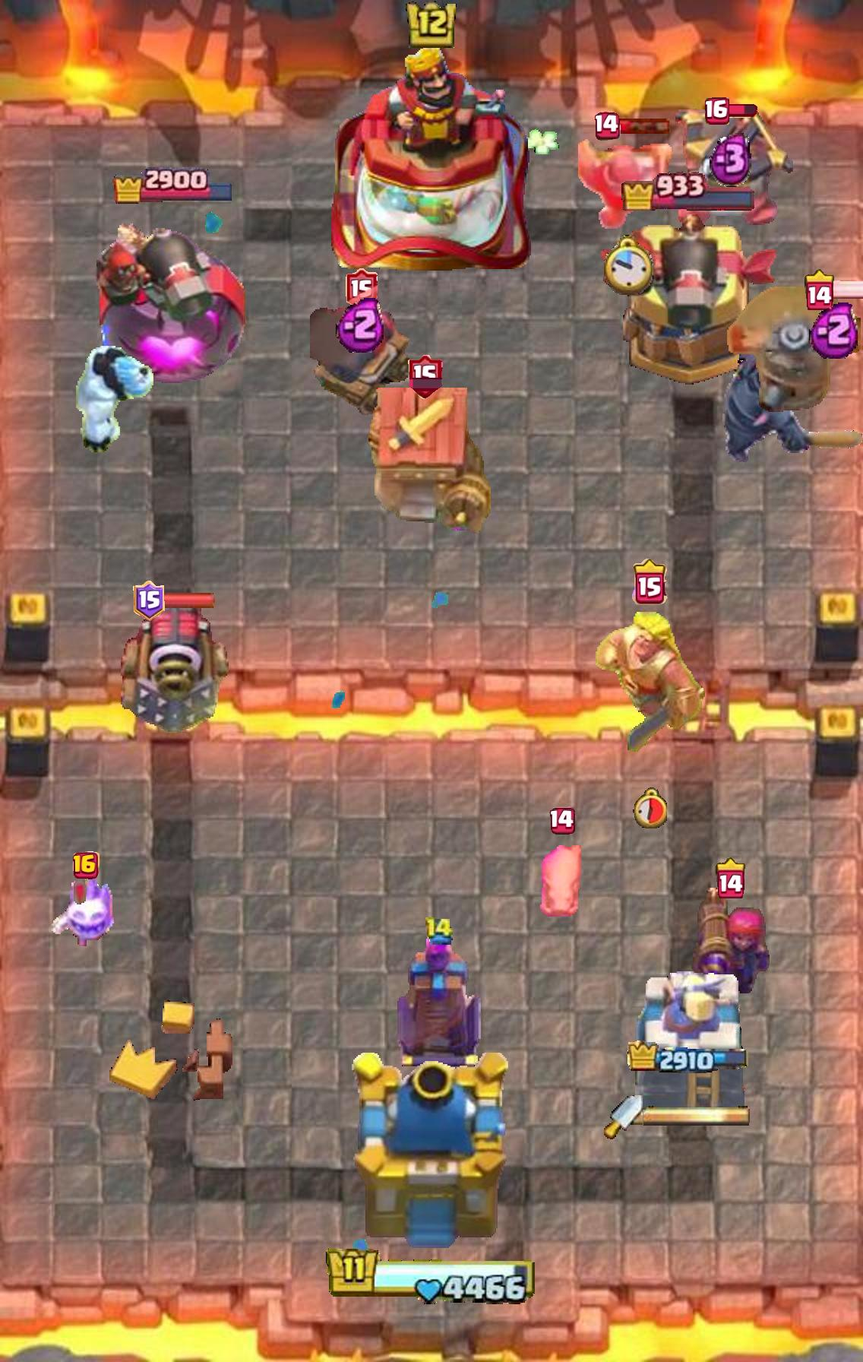bar: (161, 592, 216, 609), (617, 118, 670, 135), (830, 280, 863, 299), (726, 104, 757, 118)
bar-level: (632, 559, 668, 605), (408, 355, 443, 399), (346, 268, 378, 310), (133, 580, 165, 621), (804, 269, 834, 310), (716, 857, 746, 898), (73, 851, 100, 879), (595, 112, 621, 141), (549, 807, 575, 835), (705, 97, 729, 125)
